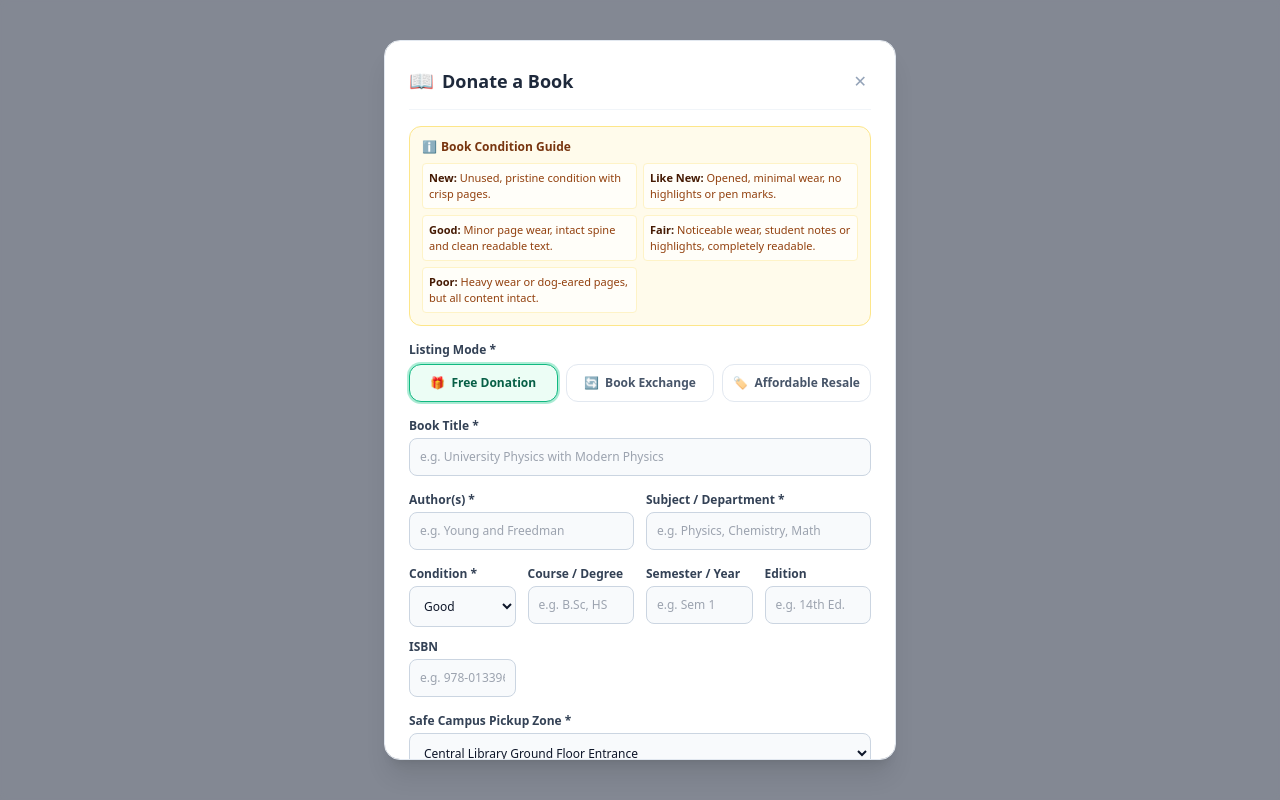
Scenario: DonateBookModal Component (CS-004 & CS-011) › switches to Affordable Resale mode and displays asking price input
This screenshot has width=1280, height=800.
Note: Click Affordable Resale button
Click the button with test id "listing-type-sale-btn": x=797, y=383 [722,364,871,402]
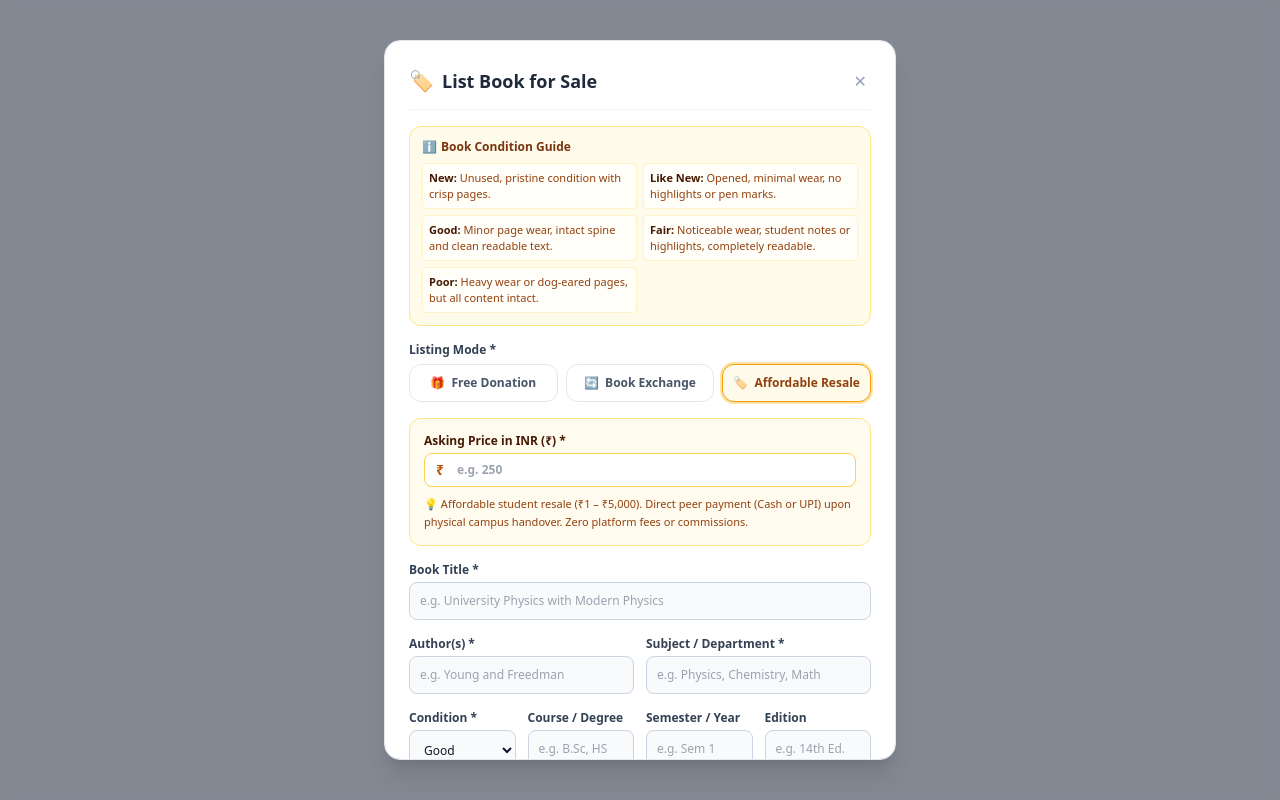
Expected: the number field with test id "input-price" is shown, [424,453,856,487]
Expected: the text "Affordable student resale" is shown, [424,496,851,529]
Note: Click Free Donation button again
Click the button with test id "listing-type-donation-btn": x=483, y=383 [409,364,558,402]
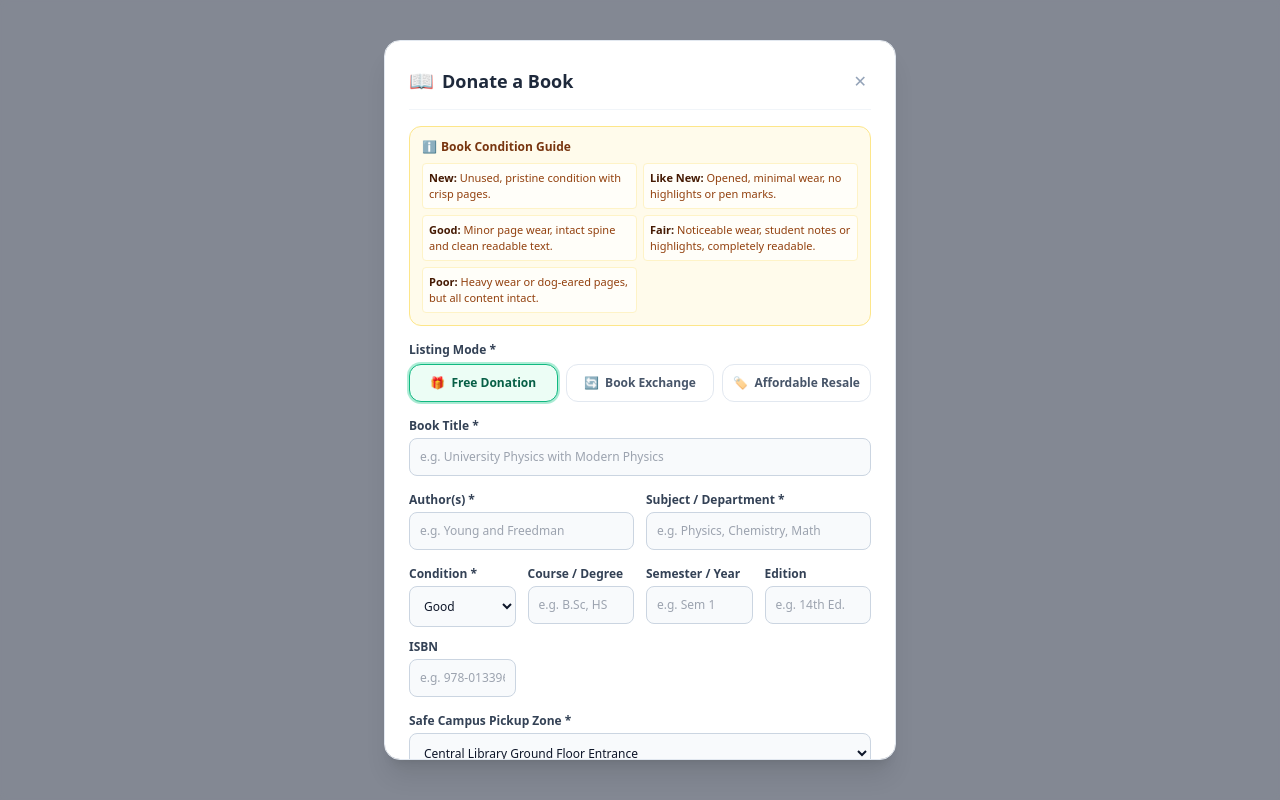
Expected: the number field with test id "input-price" is gone
